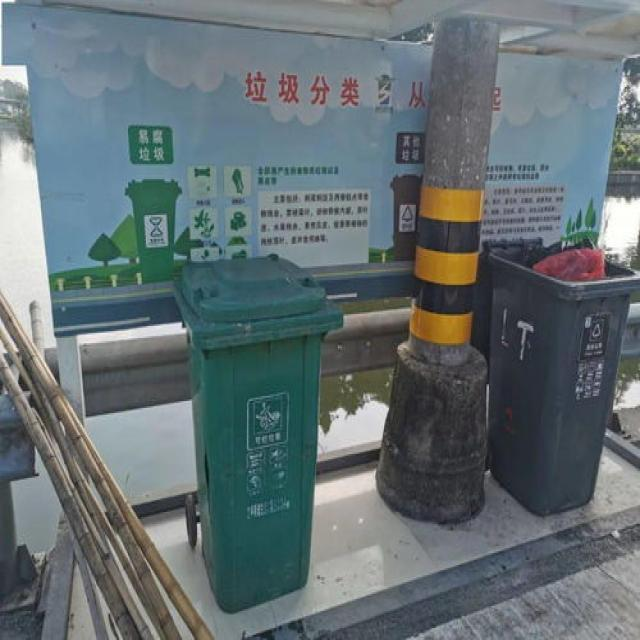garbage_bin: (173, 253, 343, 611)
overflow: (488, 235, 638, 516)
